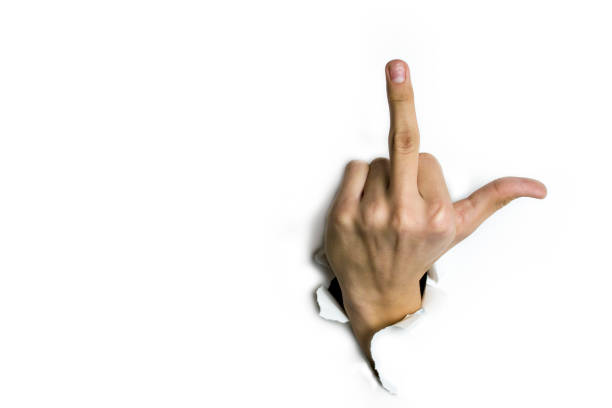insulting_gesture: (325, 59, 549, 334)
